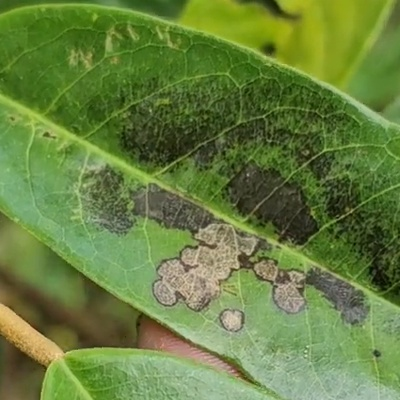Leaf_Rhizoctonia: (0, 1, 400, 400)
